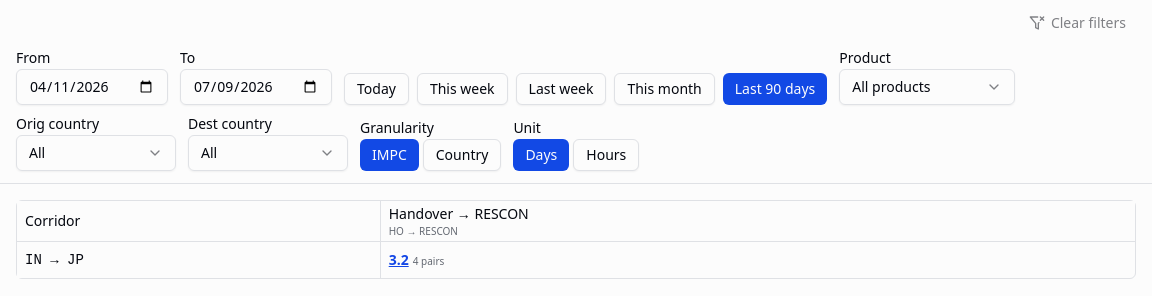
EventGapsPage › shows the mail category name in the product filter
The width and height of the screenshot is (1152, 296).
Check: the button "3.2" is shown, box [389,250,409,270]
Click the dropdown labelled "All products" at {"x": 927, "y": 87}, box [839,69,1015,105]
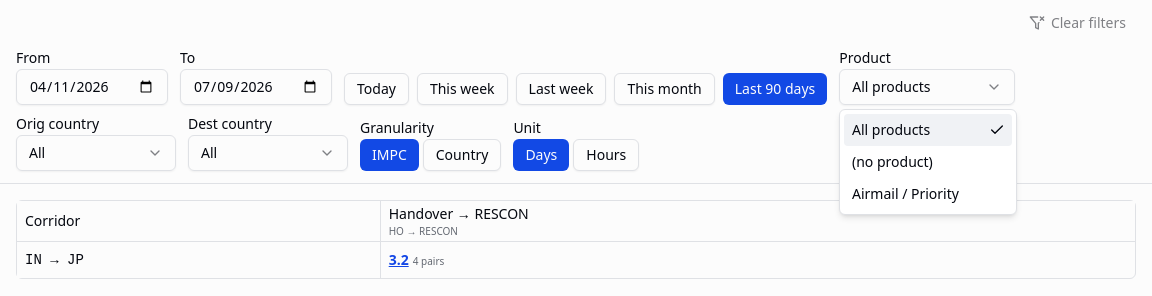
Check: the text "Airmail / Priority" is shown, box [852,184,959,204]
